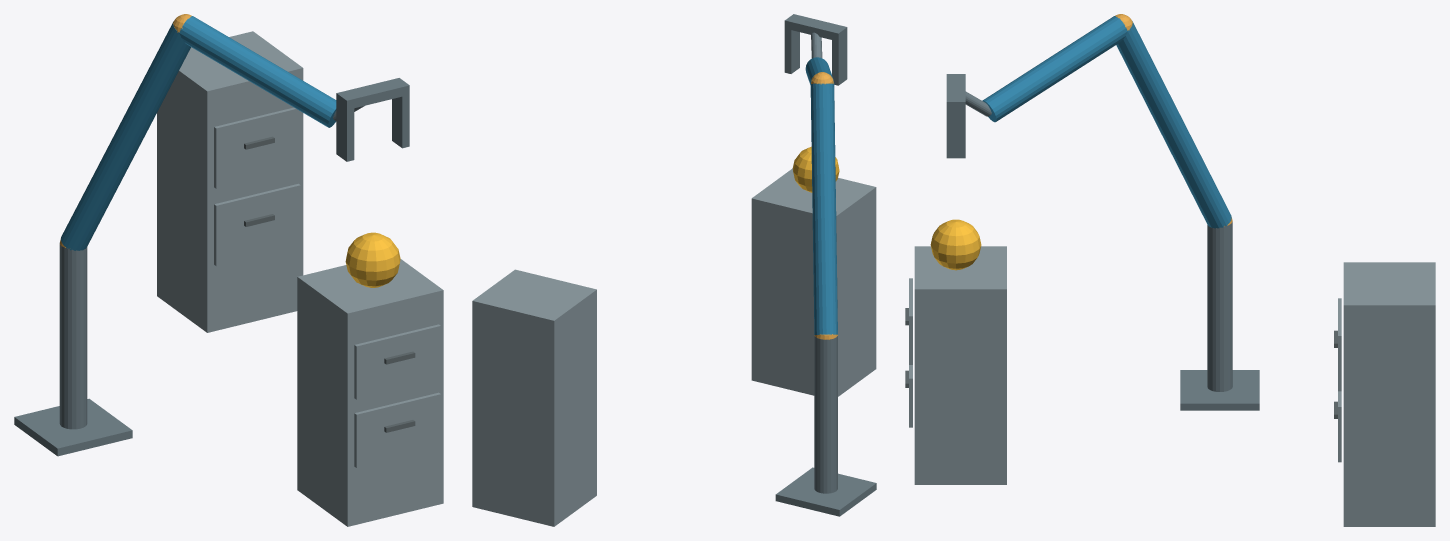
3 renders of one model, left to right at view 1: azimuth 30°, elevation 25°; view 2: azimuth 150°, elevation 25°; view 3: azimuth 270°, elevation 25°, orthographic. The views are drawn at different scales.
Visible parts, largest first — view 1: cabinet_2 body, cabinet_1 body, moving link 1, cabinet_2 drawer front, cabinet_2 drawer front.001, fixed post, moving link 2, cabinet_1 drawer front.001, cabinet_1 drawer front, pedestal, ball ball_1, gripper bridge (+2 smaller); view 2: cabinet_2 body, cabinet_1 body, moving link 1, fixed post, pedestal, gripper bridge, ball ball_1, gripper finger -1, gripper finger 1; view 3: cabinet_2 body, cabinet_1 body, moving link 1, fixed post, moving link 2, pedestal, ball ball_1, gripper finger 1, gripper bridge.
Part boxes in pixels (x1=…): cabinet_2 body: x1=157, y1=31, x2=303, y2=332; cabinet_1 body: x1=297, y1=259, x2=443, y2=526; moving link 1: x1=60, y1=22, x2=190, y2=250; cabinet_2 drawer front: x1=214, y1=183, x2=300, y2=266; cabinet_2 drawer front.001: x1=214, y1=107, x2=300, y2=188; fixed post: x1=59, y1=242, x2=87, y2=429; moving link 2: x1=179, y1=16, x2=336, y2=127; cabinet_1 drawer front.001: x1=354, y1=324, x2=440, y2=399; cabinet_1 drawer front: x1=354, y1=392, x2=440, y2=467; pedestal: x1=14, y1=398, x2=132, y2=456; ball ball_1: x1=345, y1=232, x2=400, y2=287; gripper bridge: x1=336, y1=78, x2=409, y2=109; cabinet_2 body: x1=472, y1=269, x2=596, y2=526; cabinet_1 body: x1=751, y1=168, x2=876, y2=396; moving link 1: x1=810, y1=83, x2=837, y2=334; fixed post: x1=814, y1=335, x2=837, y2=493; pedestal: x1=775, y1=467, x2=876, y2=516; gripper bridge: x1=784, y1=14, x2=847, y2=41; ball ball_1: x1=792, y1=146, x2=839, y2=192; gripper finger -1: x1=832, y1=35, x2=847, y2=85; gripper finger 1: x1=784, y1=28, x2=799, y2=73; cabinet_2 body: x1=1343, y1=262, x2=1435, y2=526; cabinet_1 body: x1=914, y1=246, x2=1006, y2=484; moving link 1: x1=1116, y1=21, x2=1231, y2=228; fixed post: x1=1207, y1=222, x2=1232, y2=391; moving link 2: x1=982, y1=16, x2=1127, y2=122; pedestal: x1=1180, y1=370, x2=1259, y2=410; ball ball_1: x1=930, y1=219, x2=981, y2=270; gripper finger 1: x1=946, y1=110, x2=965, y2=158; gripper bridge: x1=946, y1=74, x2=965, y2=110.
Size of the model in its own units: 1.12 by 1.41 by 1.67.
